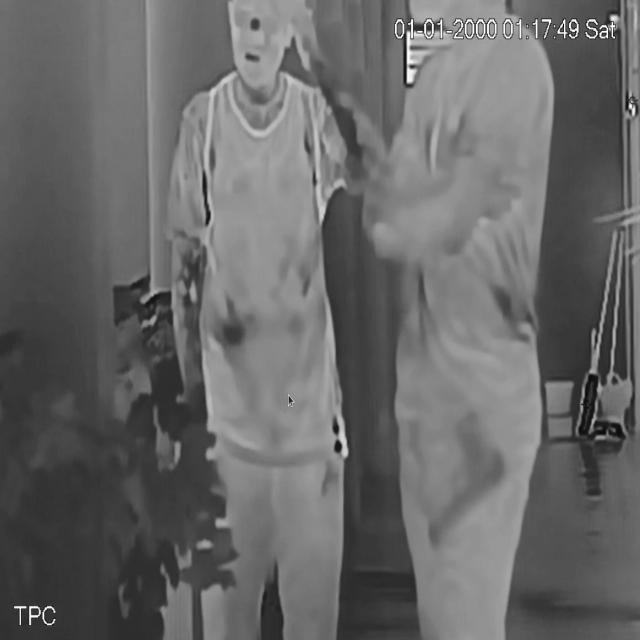Weapon: (421, 404, 511, 554)
